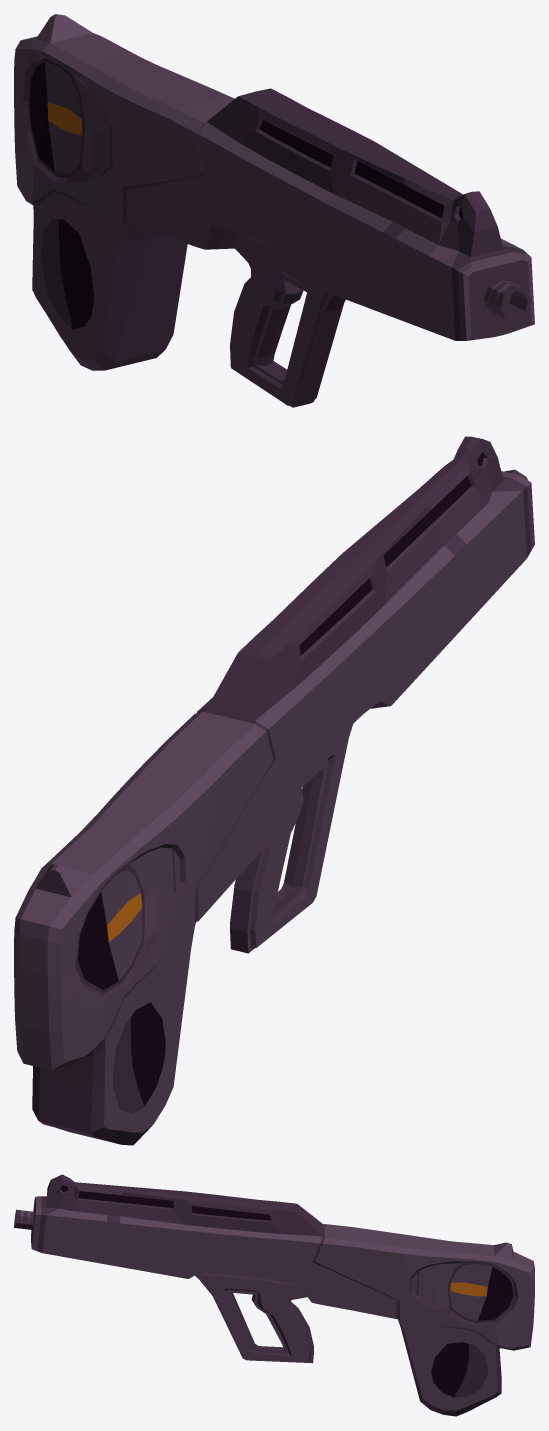
The model's file is weapon1.glb.
3 renders of one model, top to bottom at view 1: azimuth 30°, elevation 25°; view 2: azimuth 150°, elevation 25°; view 3: azimuth 270°, elevation 25°, orthographic. The views are drawn at different scales.
Parts seen in each view (by area): view 1: Cube; view 2: Cube; view 3: Cube.
Part boxes in pixels (<box>): Cube: <box>14,14,534,407</box>; Cube: <box>14,436,534,1145</box>; Cube: <box>14,1174,534,1416</box>.
Size of the model in its own units: 0.2058 by 1.19 by 2.4.
